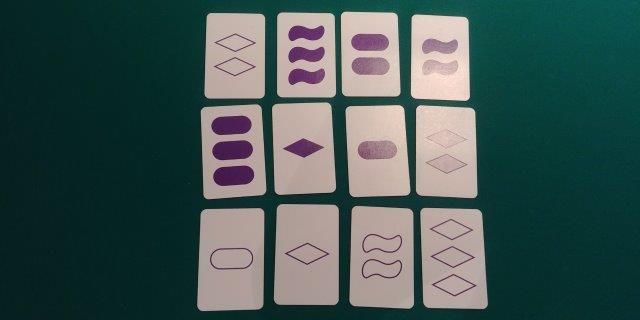1ED: (279, 207, 335, 302)
1EP: (203, 211, 256, 307)
1FD: (278, 104, 328, 191)
1FP: (351, 108, 401, 192)
2ED: (209, 15, 259, 96)
2EW: (355, 210, 409, 303)
2FP: (344, 15, 396, 92)
2FW: (415, 17, 464, 97)
2HD: (420, 108, 470, 193)
3ED: (425, 211, 478, 303)
3FP: (206, 108, 258, 192)
3FW: (280, 16, 332, 94)
